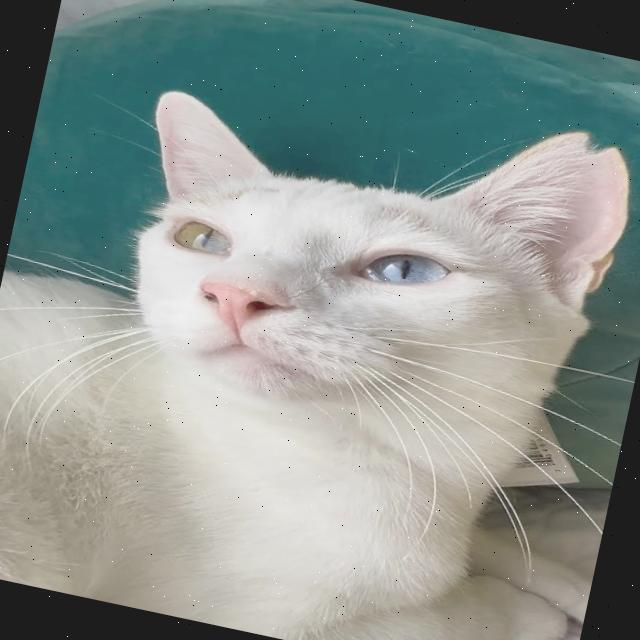domestic_short_hair_cat: (81, 33, 640, 490)
